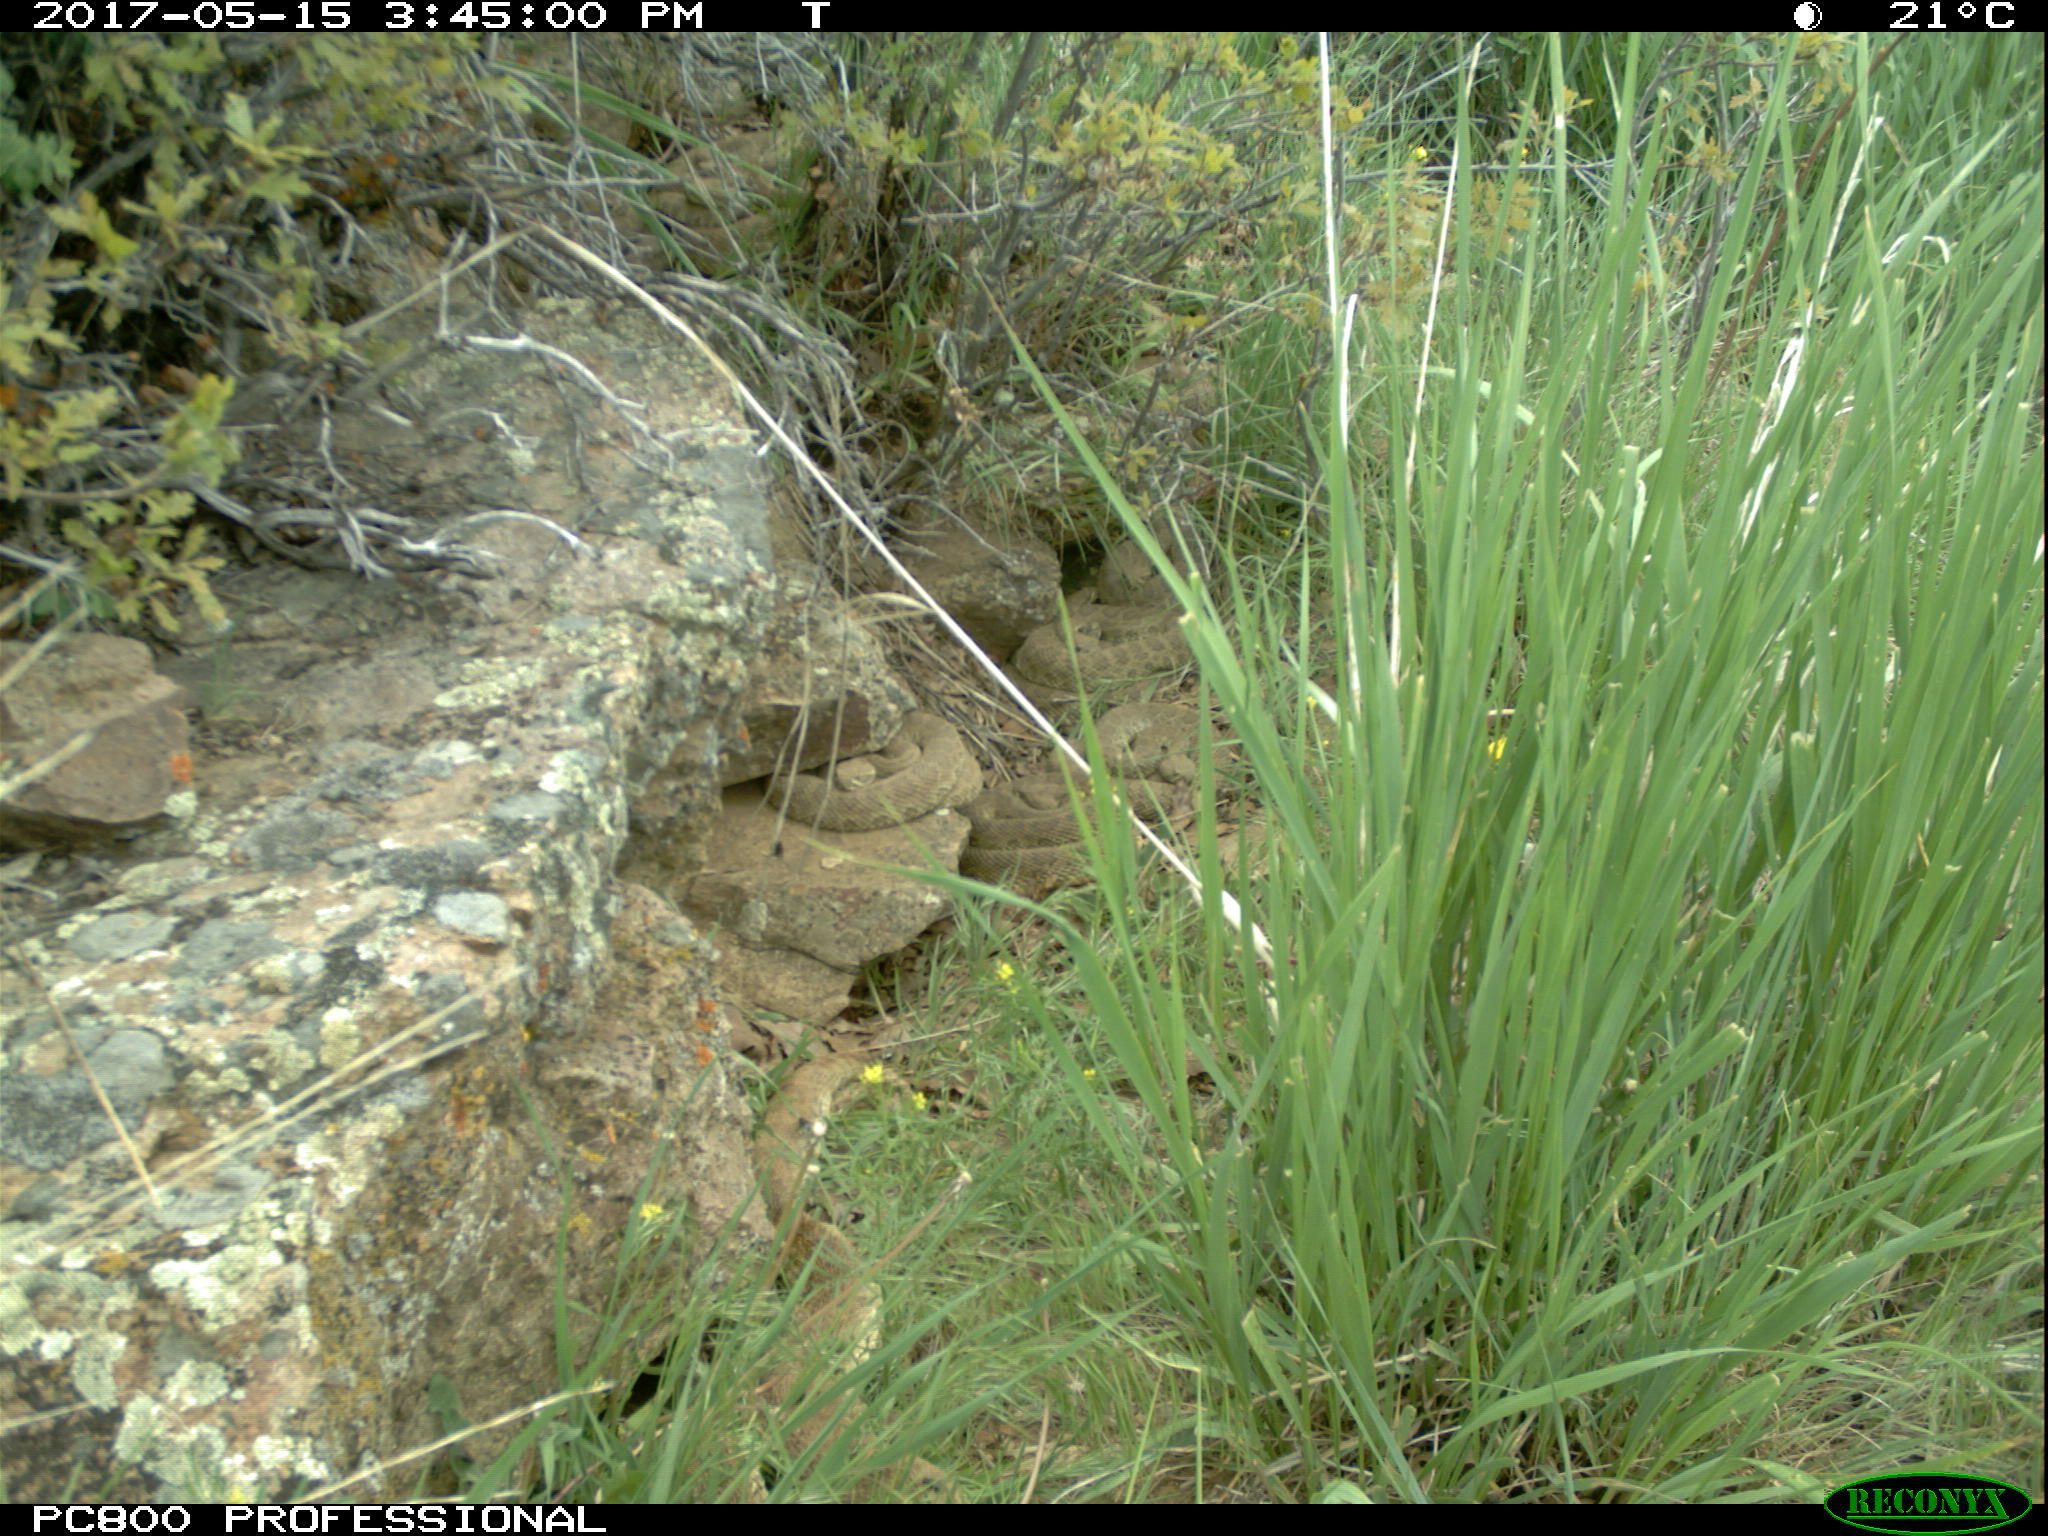snake: (753, 1052, 874, 1460), (763, 712, 984, 829), (1013, 578, 1201, 705), (656, 131, 805, 269), (961, 779, 1118, 891), (1084, 695, 1235, 807)
